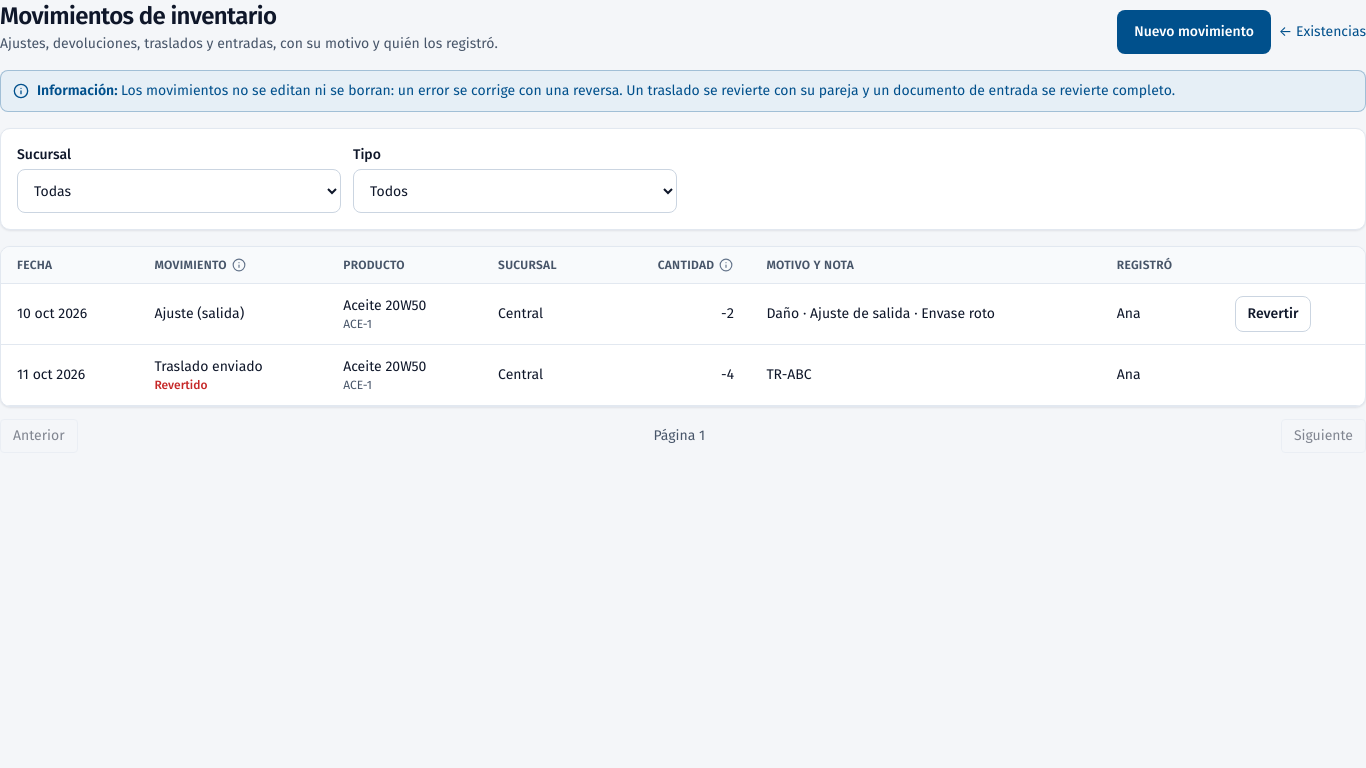
Test: unidades y equivalencias › el traslado pide origen y destino y no ofrece motivo
This screenshot has width=1366, height=768.
Click the button "Nuevo movimiento": (1194,32) [1117,10,1271,54]
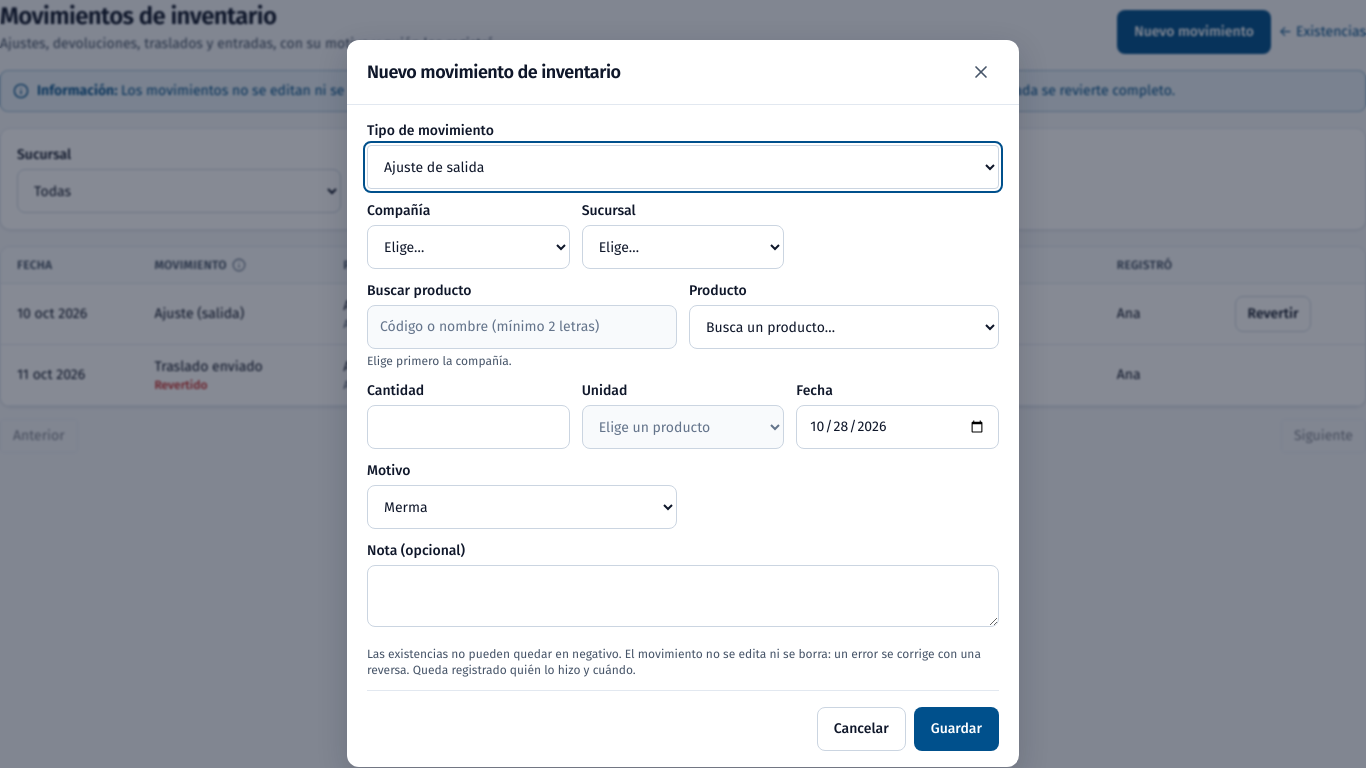
Select "Traslado entre sucursales" in the dropdown labelled "Tipo de movimiento": (683,167) [367,145,999,189]
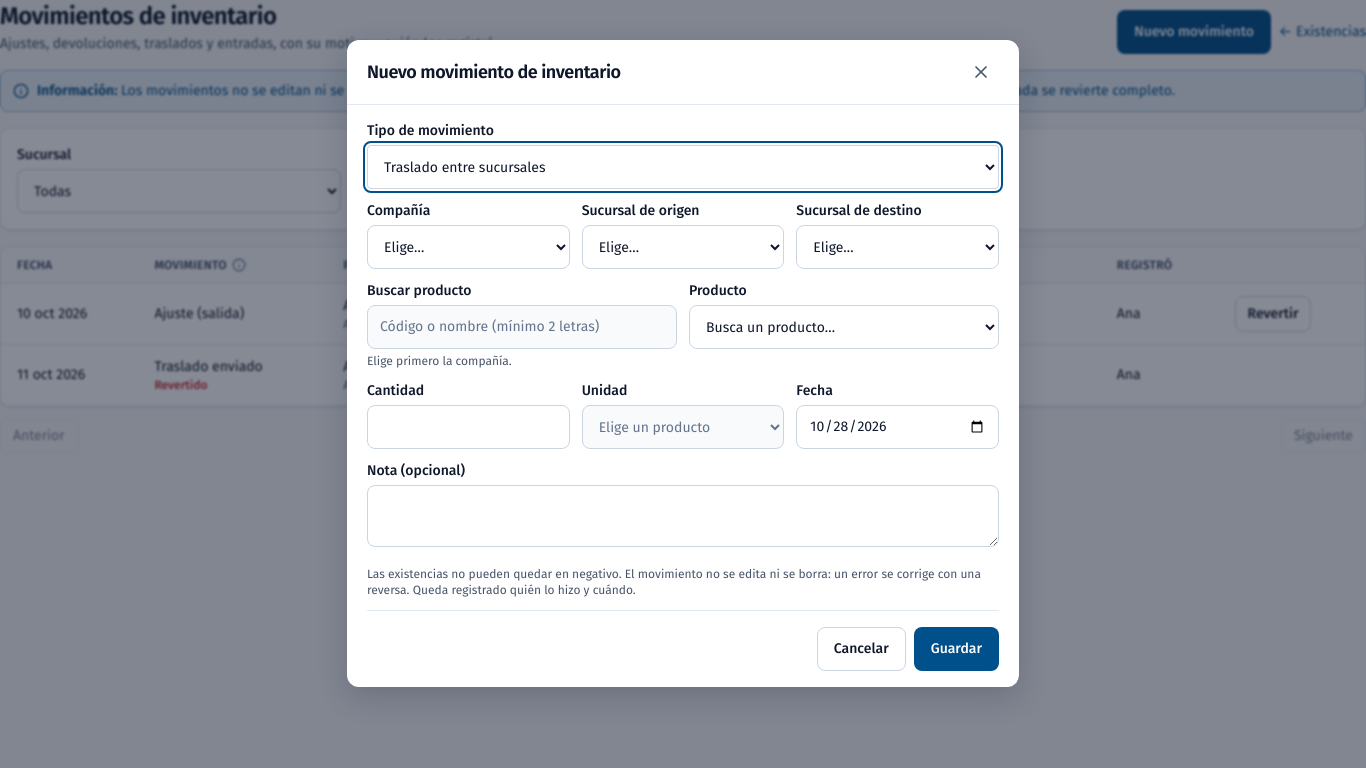
Result: the dropdown labelled "Sucursal de destino" is shown at [796,225,999,269]
